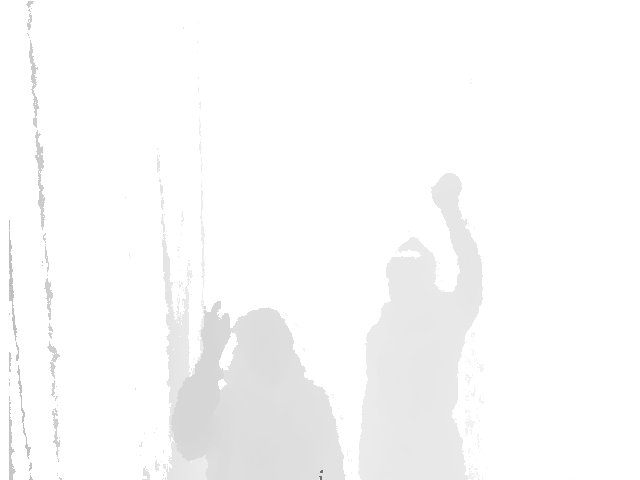hand: (196, 298, 232, 366), (429, 170, 463, 221)
head: (227, 307, 301, 381), (384, 237, 440, 302)
person: (356, 170, 485, 480), (170, 296, 347, 480)
